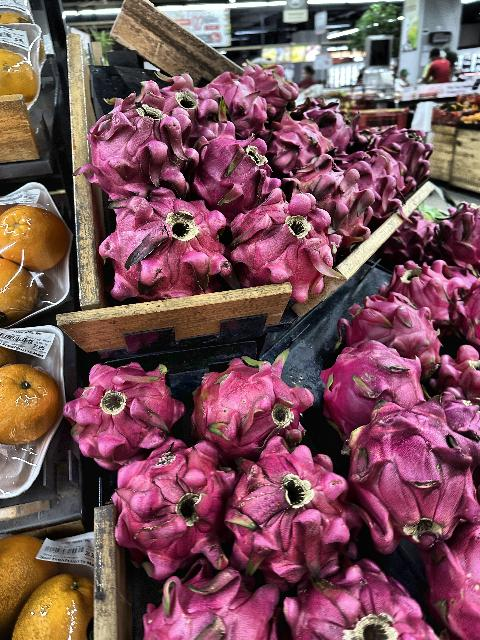buah-naga-belum-matang: (291, 164, 373, 250)
buah-naga-matang: (347, 397, 474, 549), (109, 446, 235, 566), (226, 447, 348, 567), (214, 195, 332, 307), (111, 199, 227, 301), (87, 94, 192, 200), (185, 358, 302, 450), (71, 356, 173, 460), (282, 572, 434, 640), (142, 566, 278, 640), (342, 291, 452, 374), (323, 340, 419, 420), (191, 123, 273, 205), (391, 260, 461, 334), (206, 59, 270, 134), (137, 67, 209, 129), (358, 138, 410, 220), (268, 116, 322, 182), (377, 122, 438, 178), (248, 49, 300, 113), (442, 196, 480, 276)
